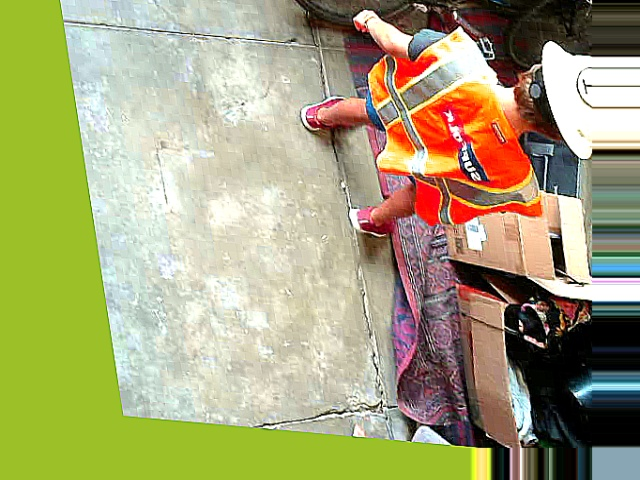one: (574, 66, 618, 111)
